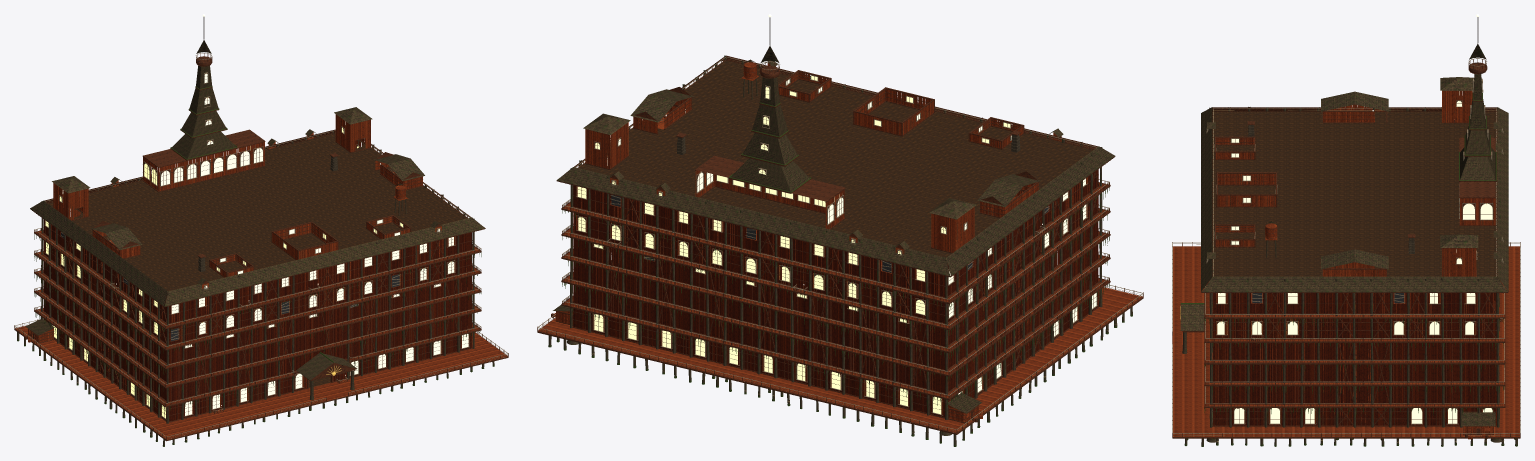
File: shell_draco.glb
3 renders of one model, left to right at view 1: azimuth 30°, elevation 25°; view 2: azimuth 150°, elevation 25°; view 3: azimuth 270°, elevation 25°, orthographic. The views are drawn at different scales.
Visible parts, largest first — view 1: spire; view 2: spire; view 3: spire.
Boxes of the visible parts, <box> form: spire: <box>14,14,508,446</box>; spire: <box>537,14,1143,446</box>; spire: <box>1172,14,1520,446</box>.
Bounding box in the file's own units: 138 × 113 × 104.
16 materials, 13 textured.
